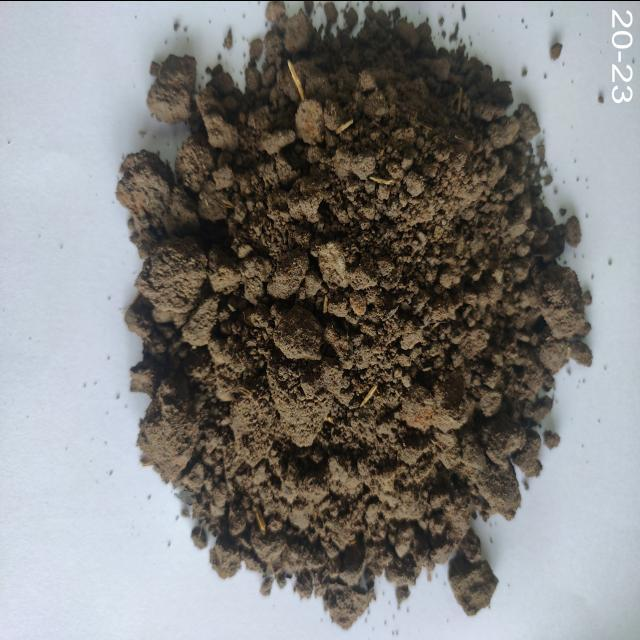soil: (193, 148, 507, 524)
